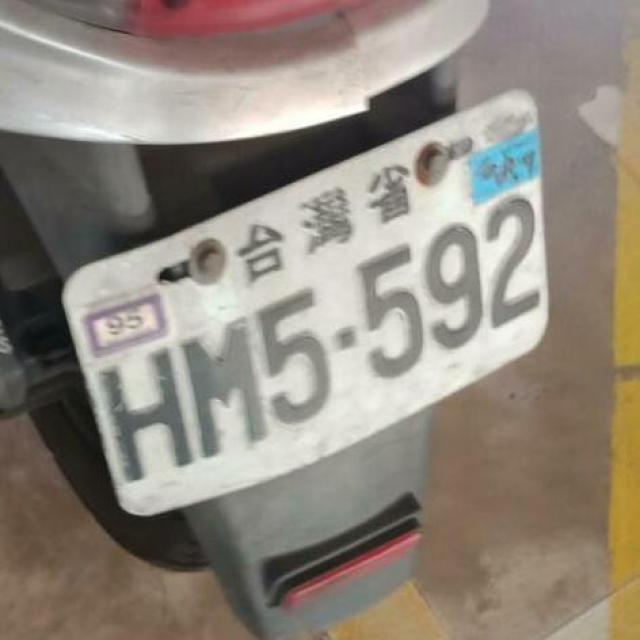W: (57, 82, 551, 524)
